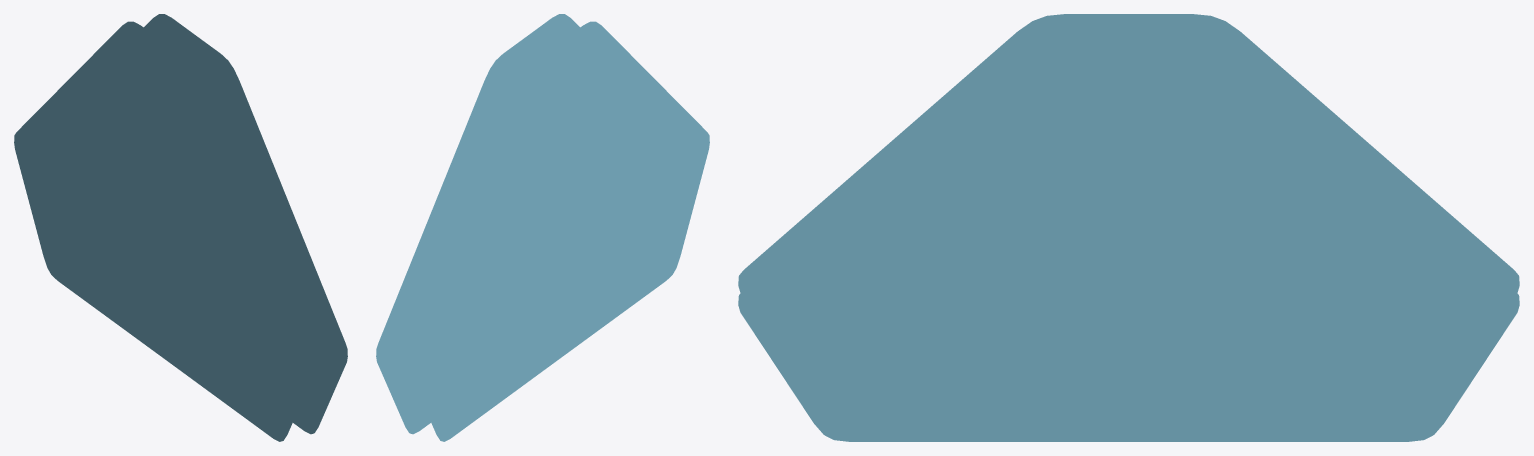
File: Door_01.FBX
3 renders of one model, left to right at view 1: azimuth 30°, elevation 25°; view 2: azimuth 150°, elevation 25°; view 3: azimuth 270°, elevation 25°, orthographic. The views are drawn at different scales.
Visible parts, largest first — view 1: Door_01; view 2: Door_01; view 3: Door_01.
Boxes of the visible parts, x1,y1,x2,y2 form: Door_01: [14, 14, 347, 441]; Door_01: [376, 14, 709, 441]; Door_01: [738, 14, 1519, 441].
Size of the model in its own units: 0.39 by 3.8 by 6.58.
